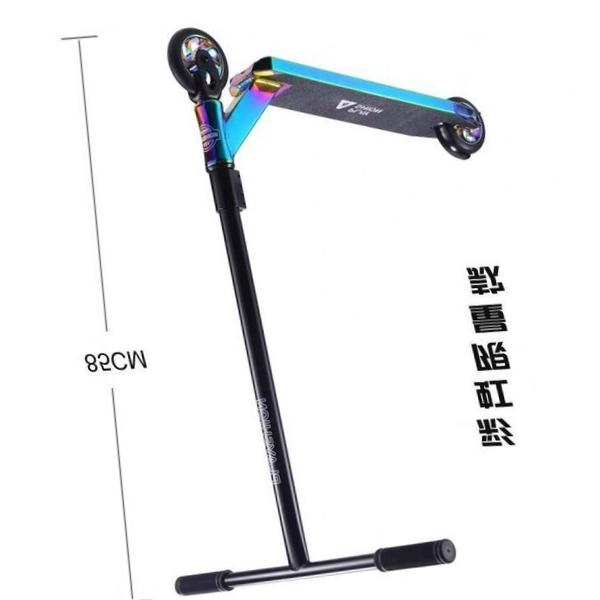scooter: (166, 26, 485, 596)
